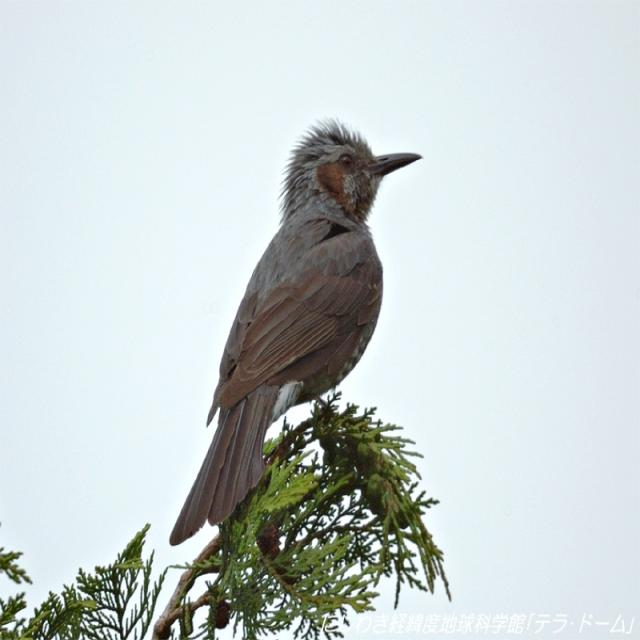bird: (168, 120, 425, 550)
